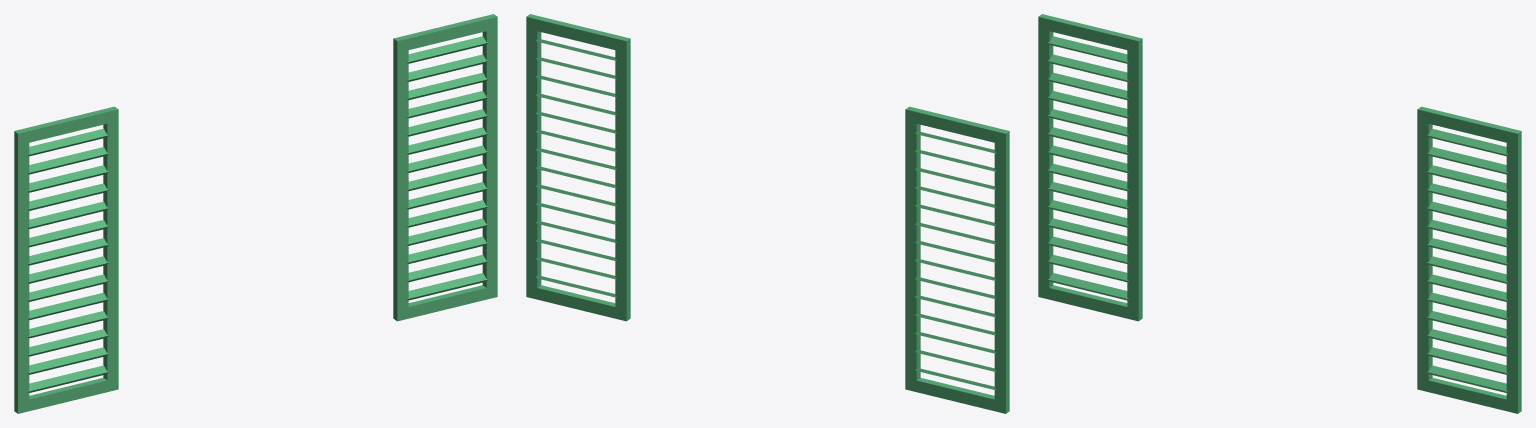
The model's file is opening.extra.shutters.glb.
3 views of the same model, side by side, from view 1: azimuth 30°, elevation 25°; view 2: azimuth 150°, elevation 25°; view 3: azimuth 330°, elevation 25° (orthographic).
Visible parts, largest first — view 1: main__plastic_green; view 2: main__plastic_green; view 3: main__plastic_green.
Part boxes in pixels (<box>): main__plastic_green: <box>14,14,497,413</box>; main__plastic_green: <box>526,14,1009,413</box>; main__plastic_green: <box>1038,14,1521,413</box>.
Size of the model in its own units: 2.15 by 1.2 by 0.0363.
